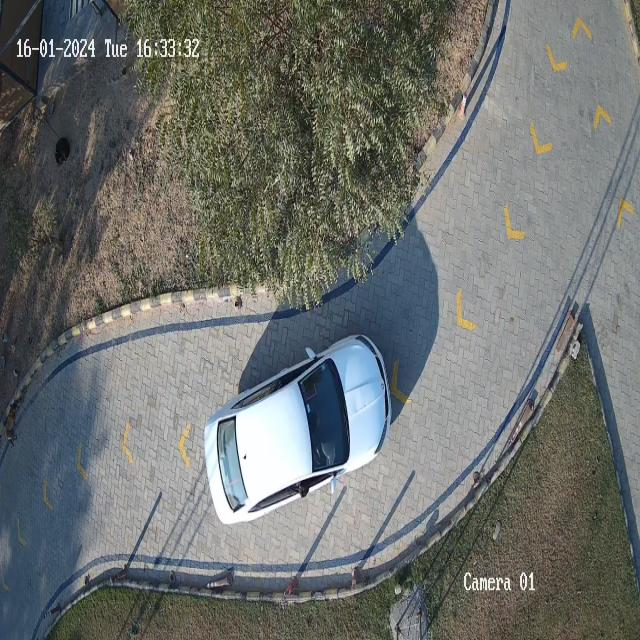car: (205, 336, 391, 524)
